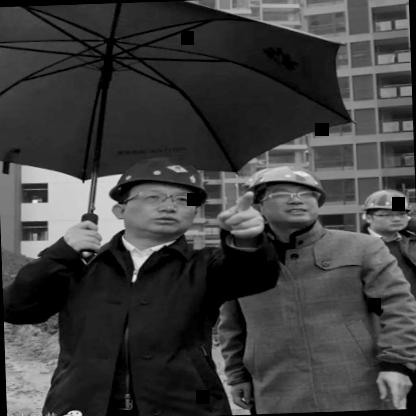helmet: (106, 154, 211, 242), (232, 162, 332, 238), (356, 184, 416, 237)
